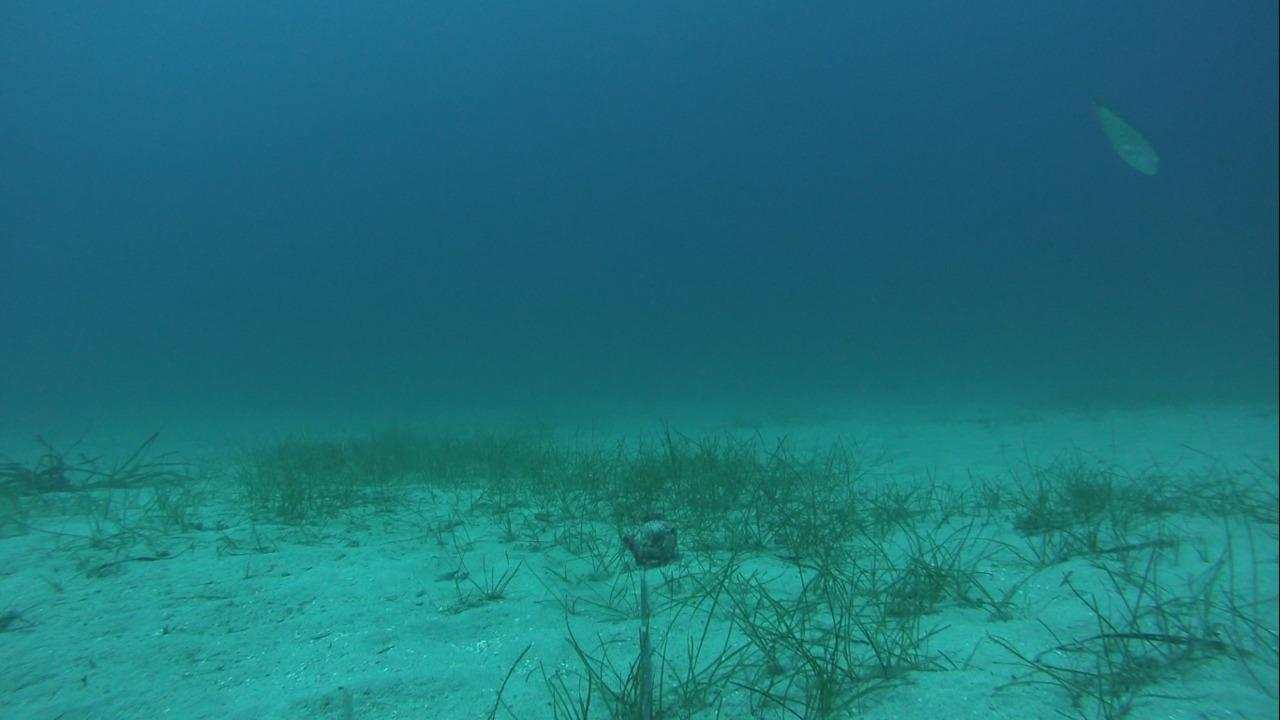raor: (1082, 89, 1164, 185)
